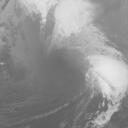cyclone: (54, 33, 124, 99)
